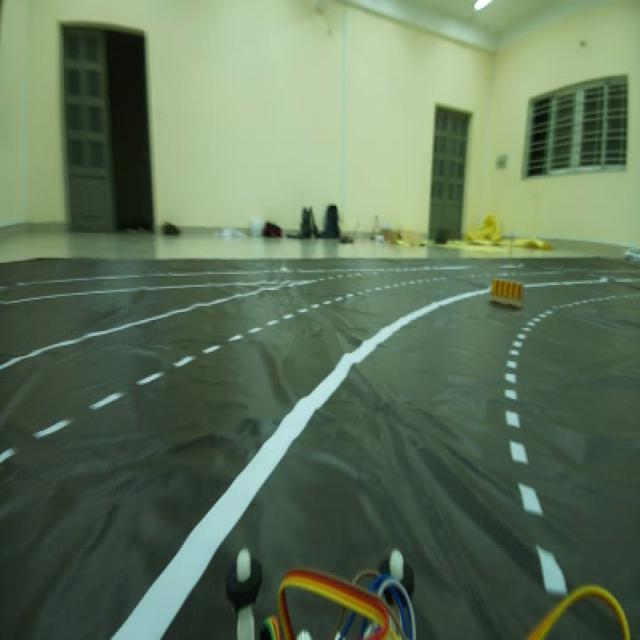roadblock: (483, 268, 529, 309)
